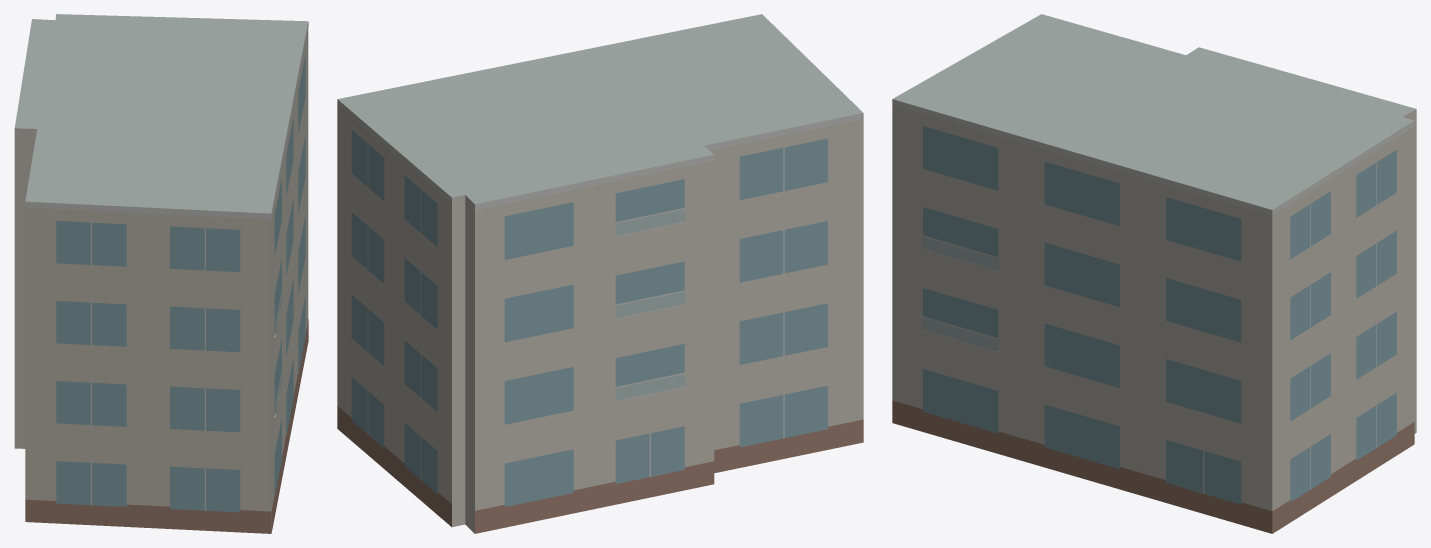
Rendered from survey-upis-32938663.glb.
The picture shows the model from 3 angles, left to right: view 1: azimuth 30°, elevation 25°; view 2: azimuth 150°, elevation 25°; view 3: azimuth 270°, elevation 25°; orthographic projection. The views are drawn at different scales.
Parts seen in each view (by area): view 1: survey-upis-32938663.tmp; view 2: survey-upis-32938663.tmp; view 3: survey-upis-32938663.tmp.
Part boxes in pixels (x1=…): survey-upis-32938663.tmp: x1=14, y1=14, x2=308, y2=533; survey-upis-32938663.tmp: x1=337, y1=14, x2=863, y2=533; survey-upis-32938663.tmp: x1=892, y1=14, x2=1416, y2=533.
Bounding box in the file's own units: 17.11 × 13.18 × 19.35.
